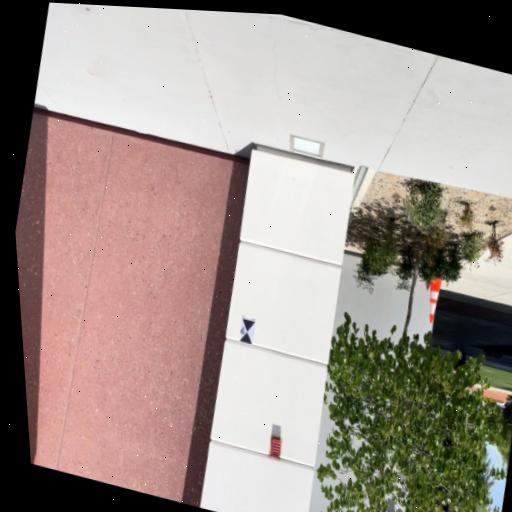target9: (236, 317, 257, 345)
